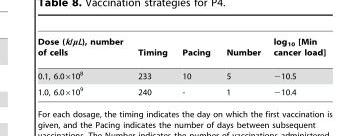table: (37, 37, 325, 96)
table column: (37, 37, 129, 96), (266, 37, 325, 96), (217, 37, 266, 96), (129, 37, 174, 96), (174, 37, 217, 96)
table column header: (37, 37, 325, 63)
table row: (37, 37, 325, 63), (37, 63, 325, 83), (37, 83, 325, 96)
